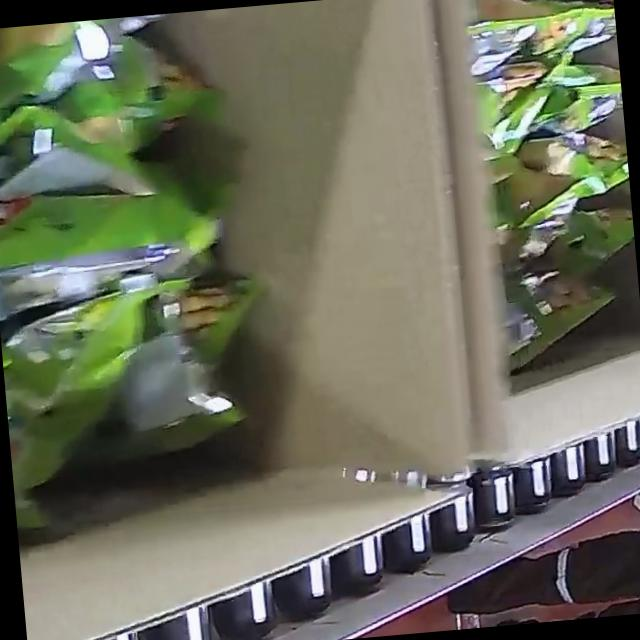yogurt: (0, 6, 282, 523), (456, 0, 640, 359)
